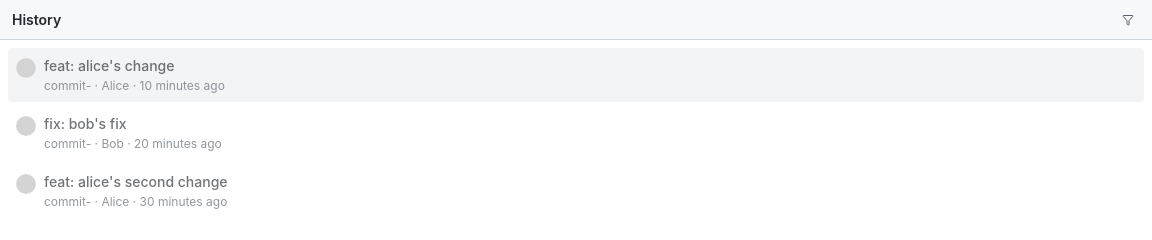
Test: Sidebar › author filter › shows unique authors when filter button is clicked
Check: the text "feat: alice's change" is shown, box left=44, top=57, right=174, bottom=74
Click the button with test id "author-filter-button": (1128, 20) left=1116, top=12, right=1140, bottom=28
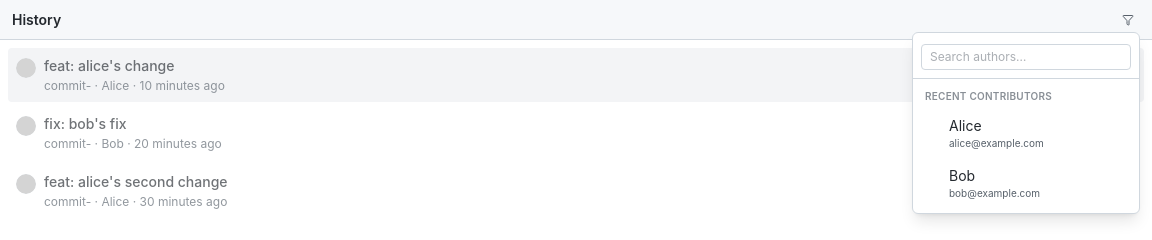
Check: the menu item "Alice alice@example.com" is shown, box left=949, top=117, right=1044, bottom=149
Check: the menu item "Bob bob@example.com" is shown, box left=949, top=167, right=1040, bottom=199
